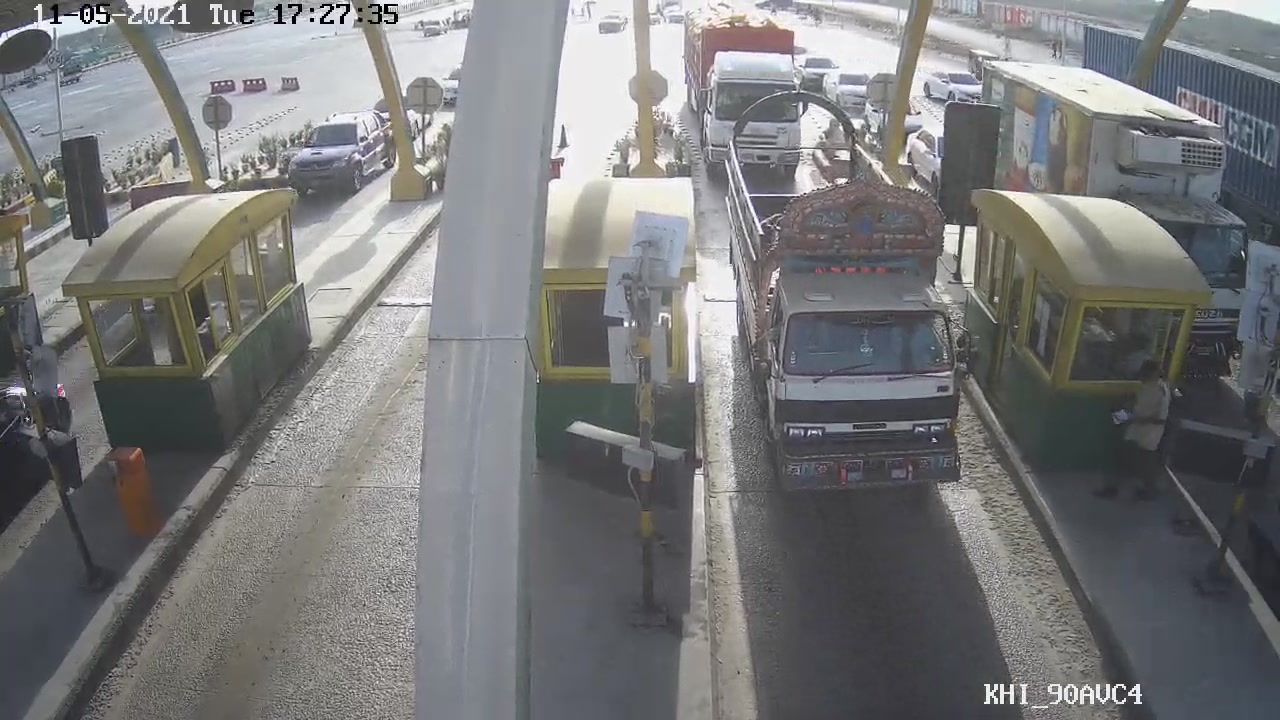F5: (719, 109, 964, 496)
